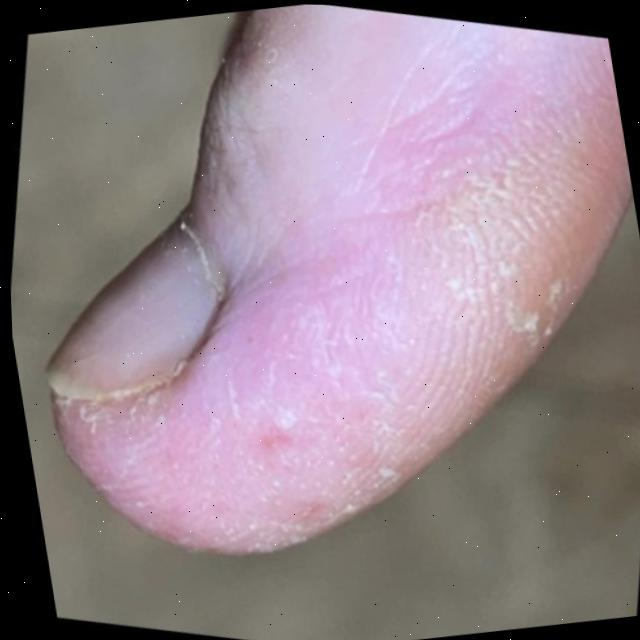Eczema: (2, 43, 640, 626)
